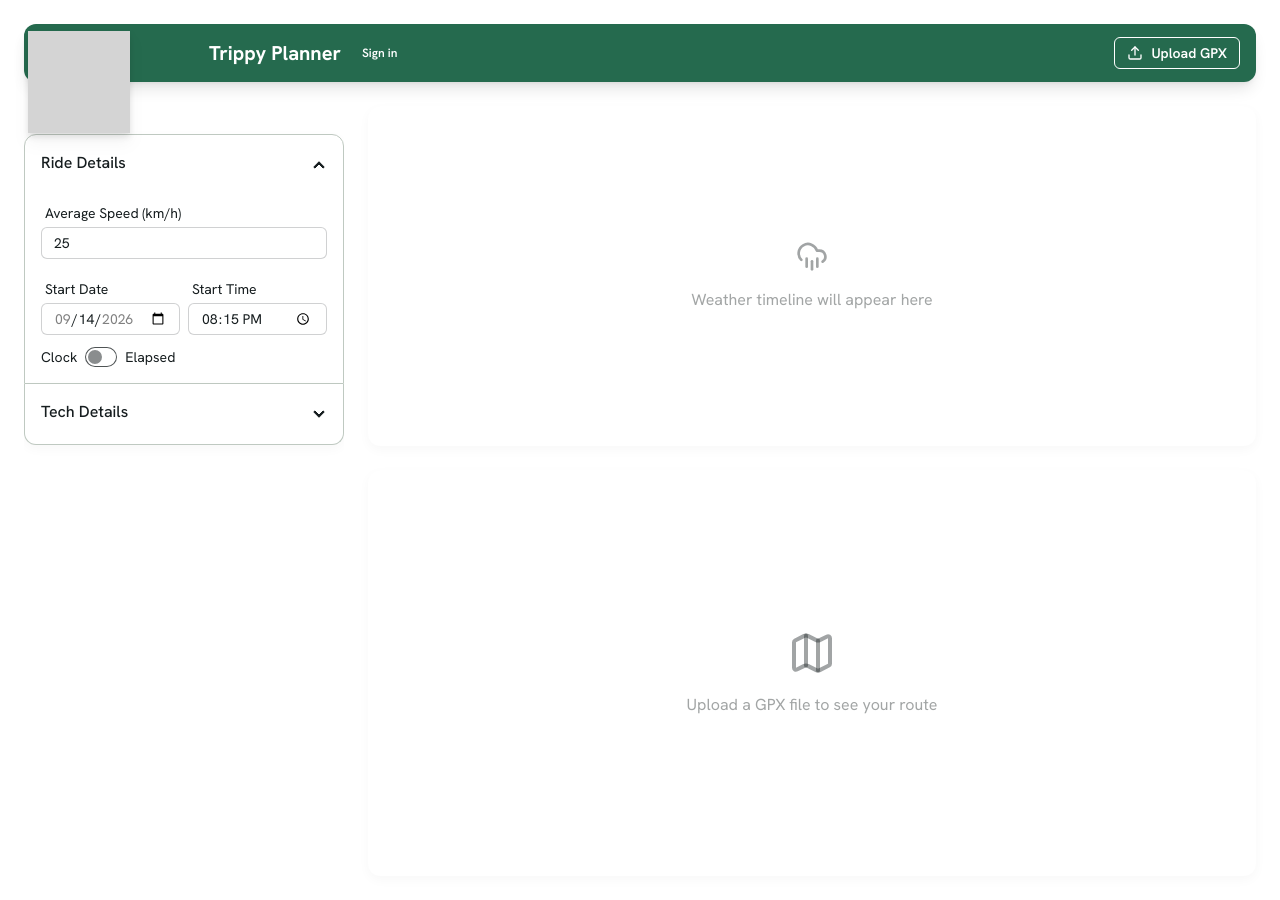
Test: backend version display › shows the backend version and build time under the frontend version
This screenshot has width=1280, height=900.
Step 1. Click the text "Tech Details" → x=85, y=412, box [41,401,128,422]
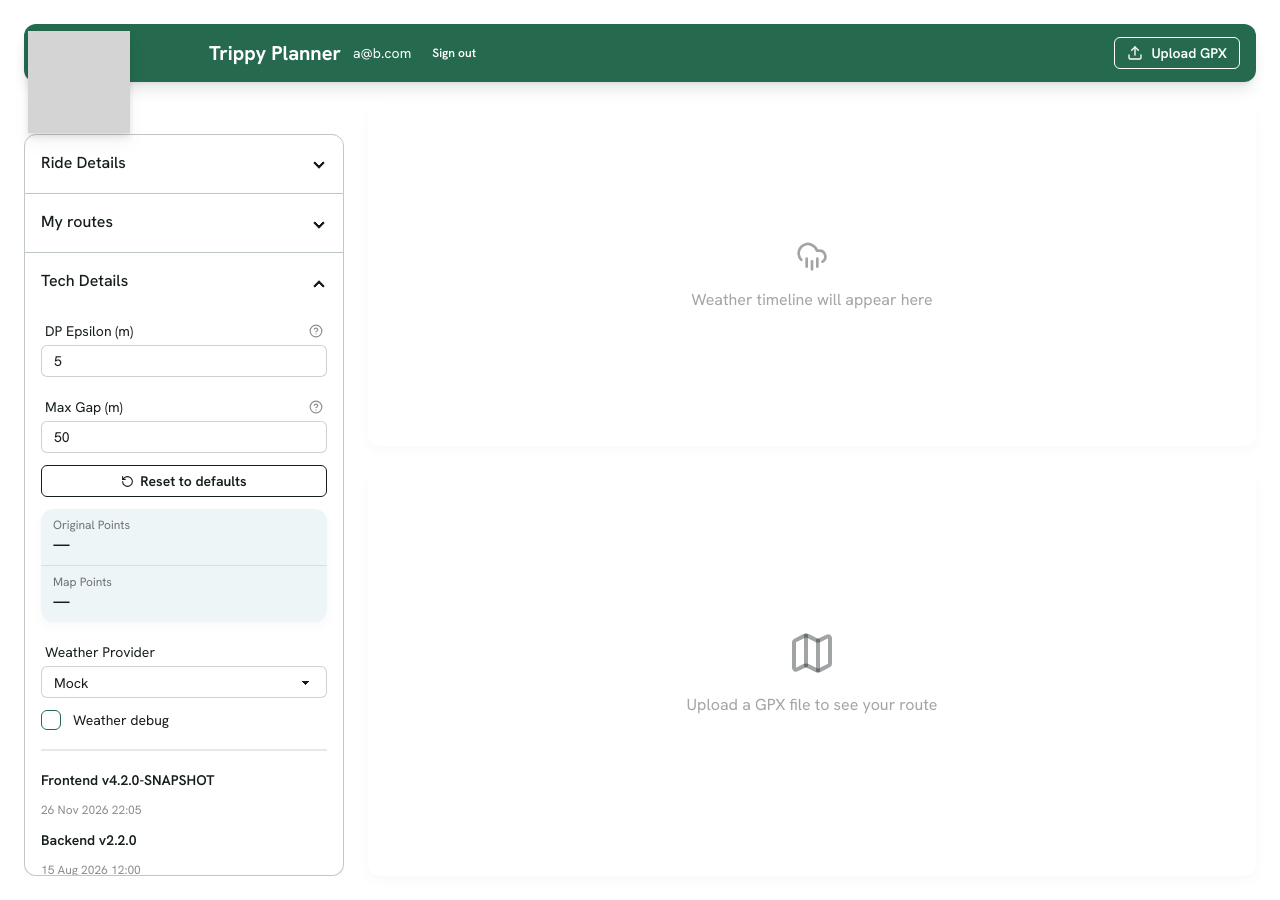
Now the text "Backend v2.2.0" is shown, box [41,831,136,849]
